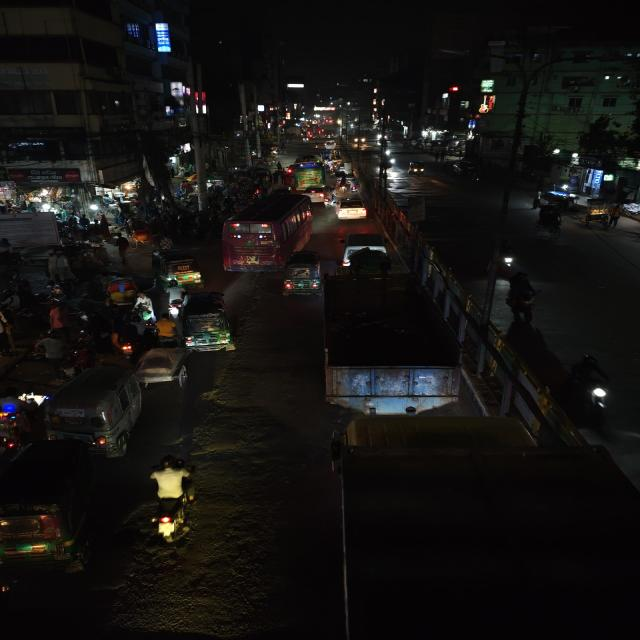bus: (220, 192, 315, 274), (290, 154, 326, 190)
car: (336, 230, 390, 272), (334, 194, 369, 222), (305, 183, 332, 201)
cng: (0, 438, 100, 574), (44, 363, 144, 459), (178, 292, 237, 354), (279, 250, 324, 300), (149, 248, 205, 284), (406, 158, 427, 178), (452, 160, 478, 176)
motorcycle: (141, 451, 205, 545), (564, 350, 617, 424), (0, 392, 24, 458), (108, 318, 145, 358), (494, 235, 518, 273), (161, 278, 185, 315)
pedestrian: (503, 270, 543, 324), (33, 332, 68, 366), (151, 311, 178, 346)
pickup_van: (316, 281, 474, 404)
rickshaw: (134, 345, 191, 391), (98, 274, 143, 306), (579, 200, 620, 230), (532, 208, 566, 244), (127, 217, 166, 248), (147, 233, 173, 250)
truck: (288, 415, 636, 640)
